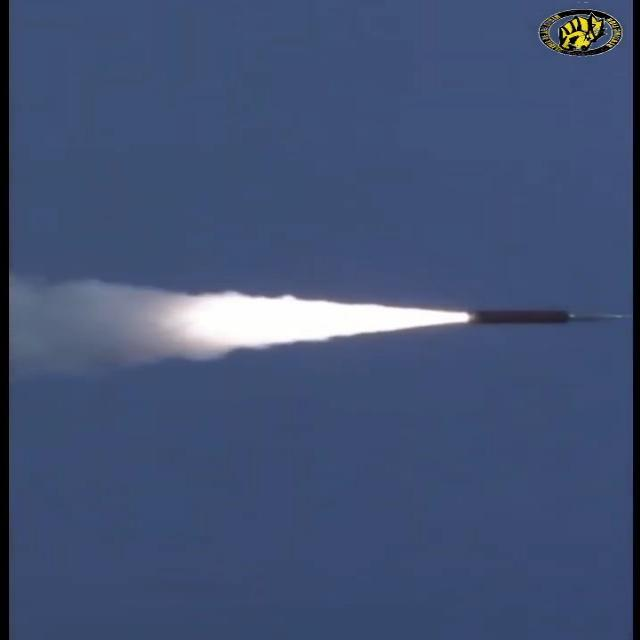missile: (458, 306, 634, 326)
